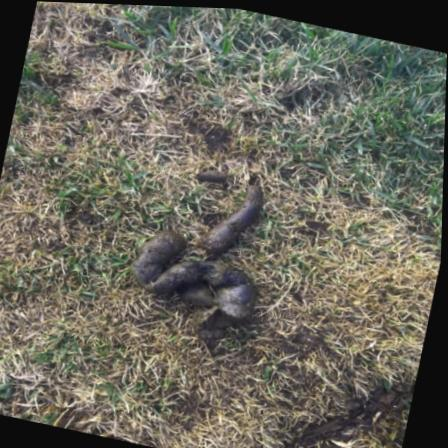dog-poop: (131, 145, 287, 334)
